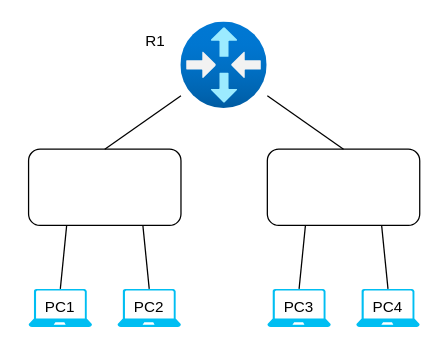
Image size: 447x348. Some labels were removed from this diagram. The centre of each missing label's shape, as x and y in pixels:
OPERATIONS vlan-id 20: (104,186)
SALES vlan-id 10: (343,186)
